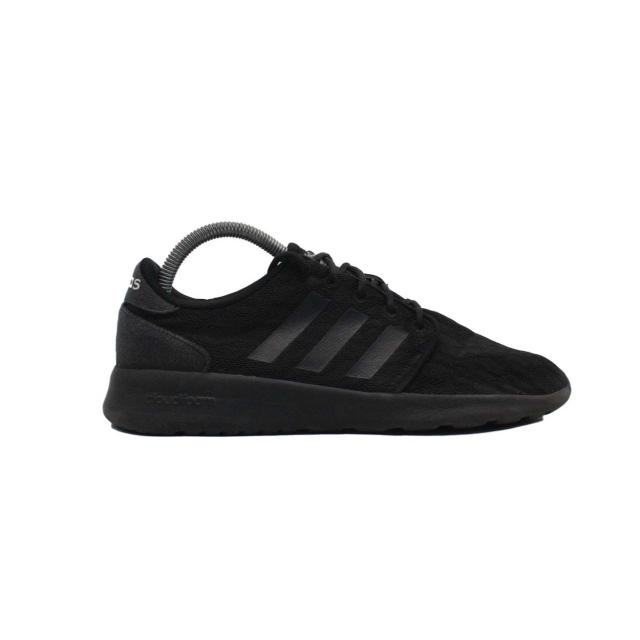heel: (120, 261, 183, 369)
midsole: (102, 361, 571, 439)
uppersole: (152, 243, 573, 400)
